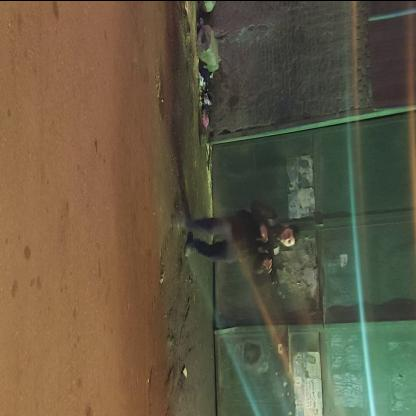long weapon: (250, 213, 284, 294)
